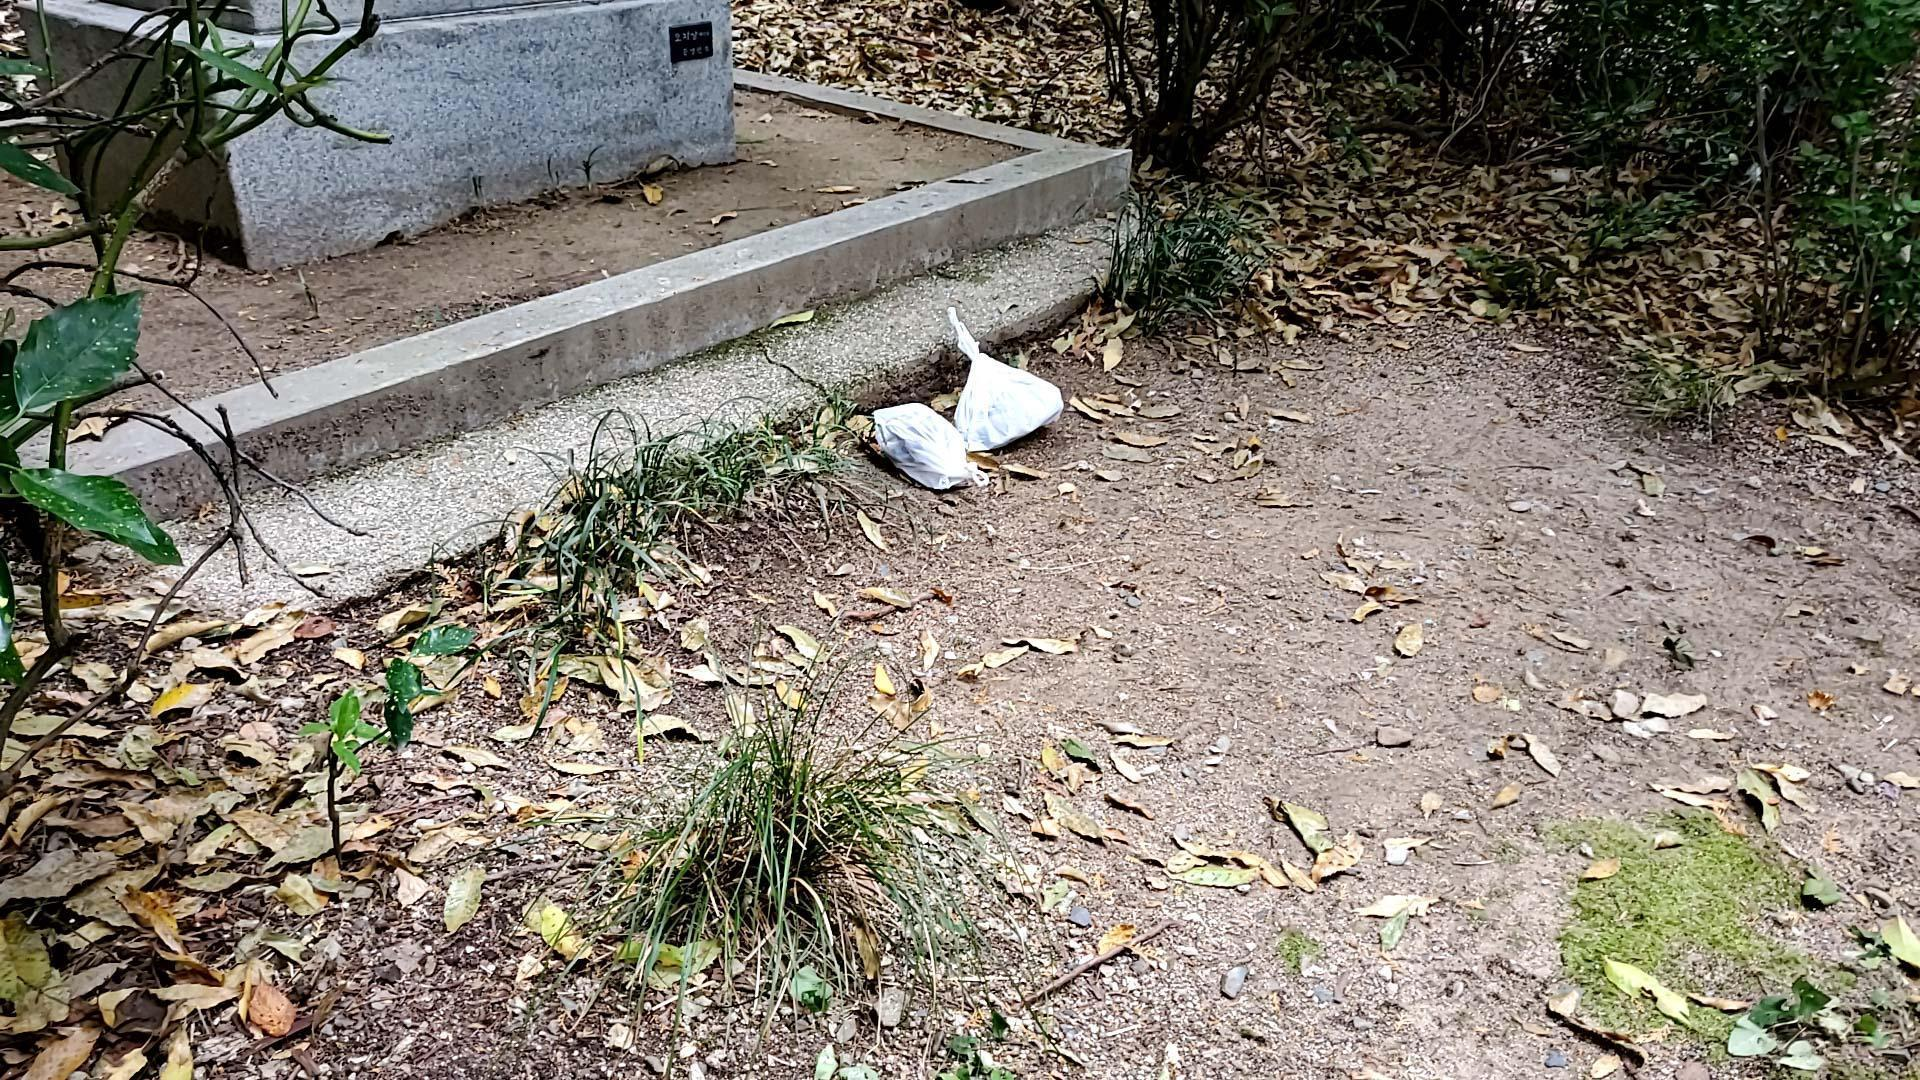white_bag: (939, 297, 1068, 458), (860, 400, 992, 497)
